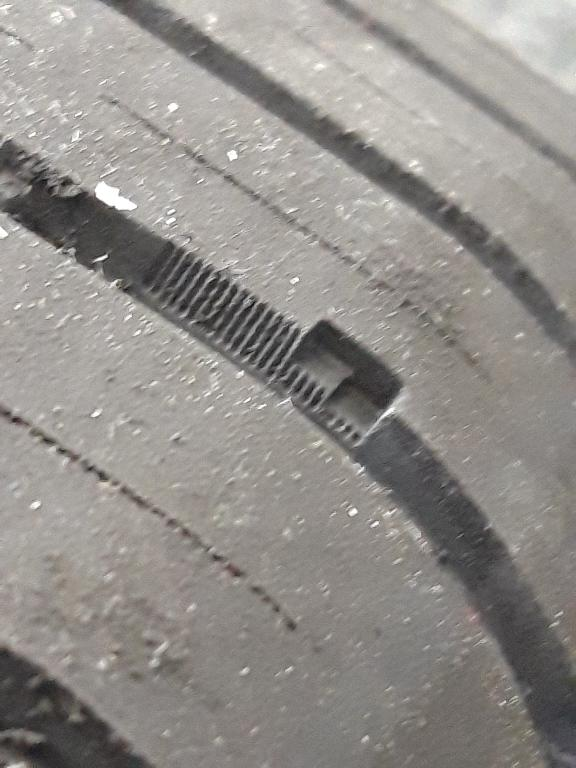temoin:50: (241, 284, 425, 469)
